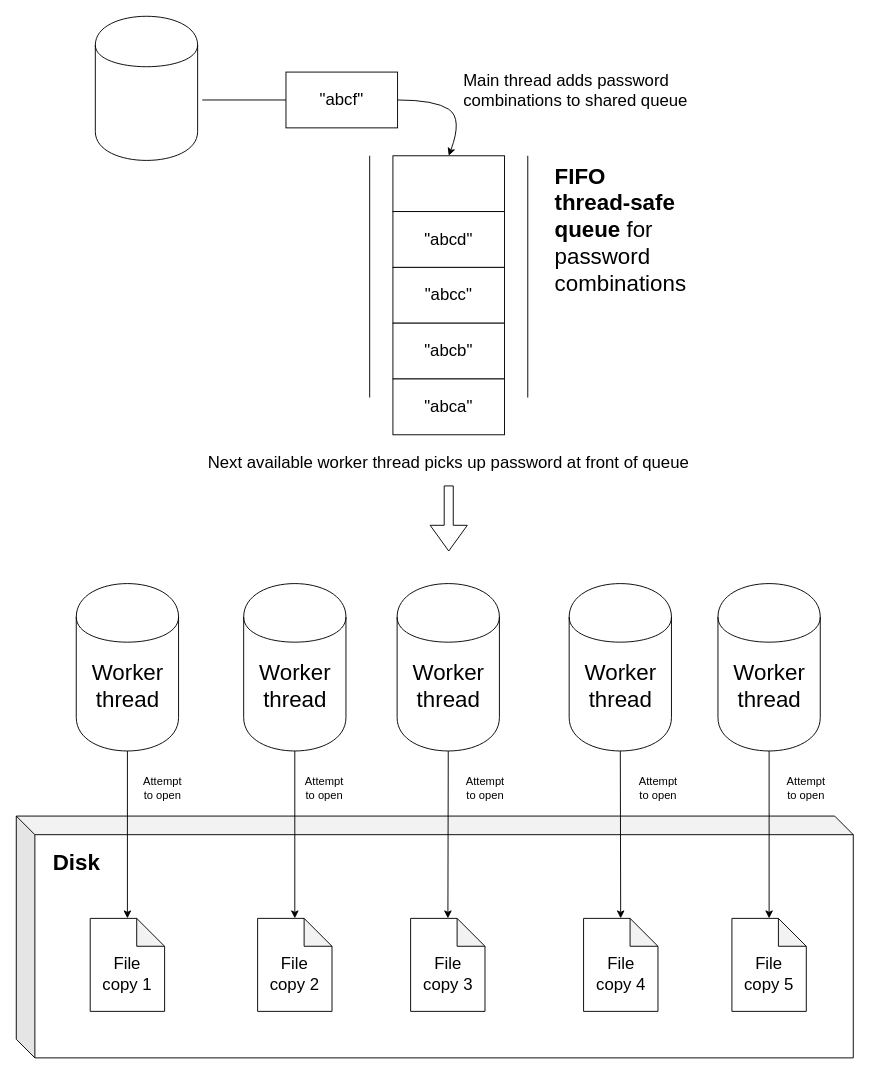
Some shapes in this 870 by 1074 pixel diagram are drawn without their labels. Here are the shapes that lost their labels. From the top down, the centre of each, then its label:
pixel 146 87: Main thread
pixel 448 183: "abce"
